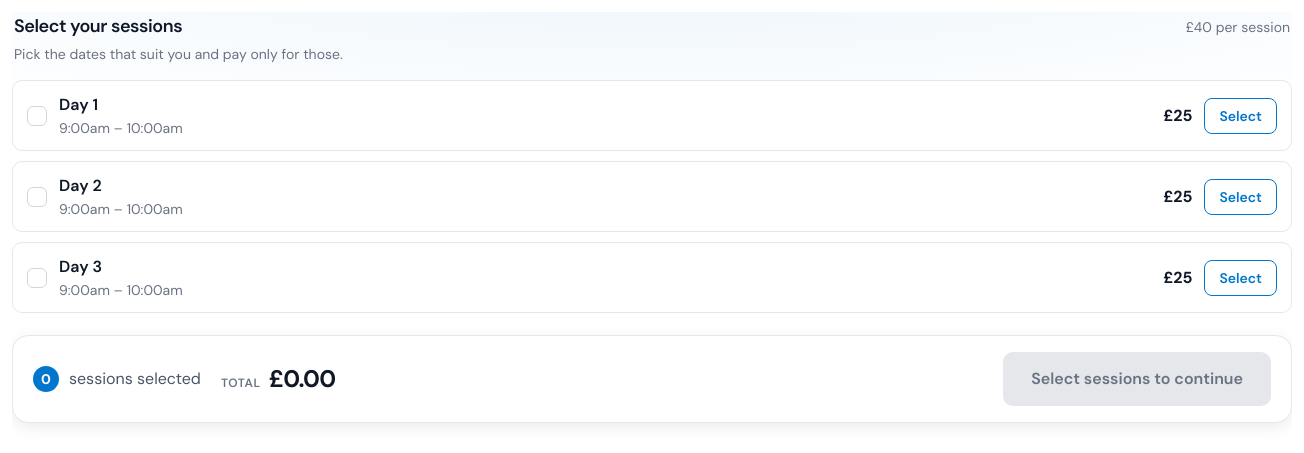
Test: SessionPicker — CTA navigation › UX-21: summary bar itemises subtotal, service fee and total on both variants
Click the button with test id "session-row" at {"x": 79, "y": 104}, box [12, 80, 1292, 151]
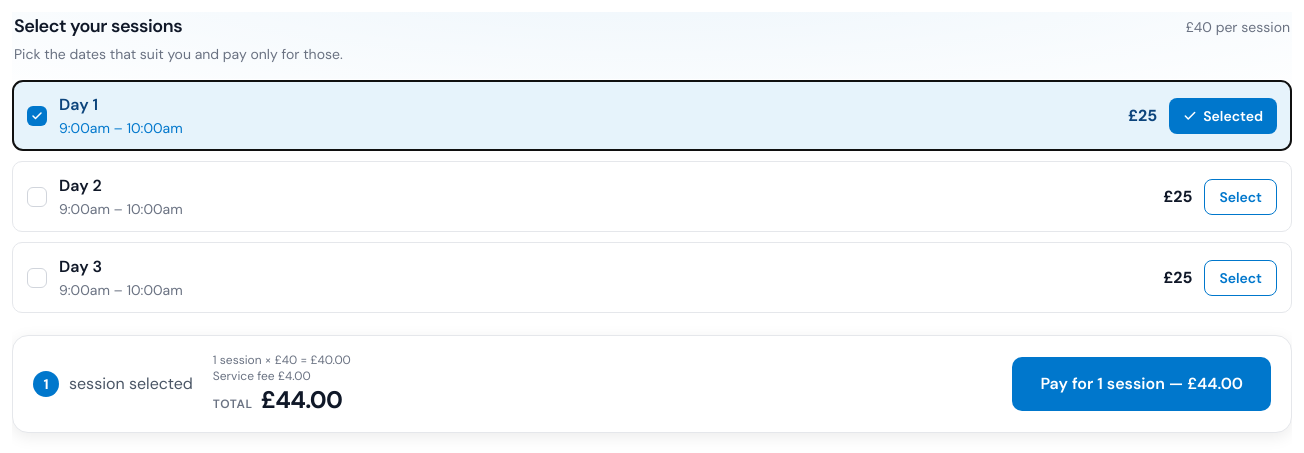
Click the button with test id "session-row" at {"x": 80, "y": 186}, box [12, 161, 1292, 232]
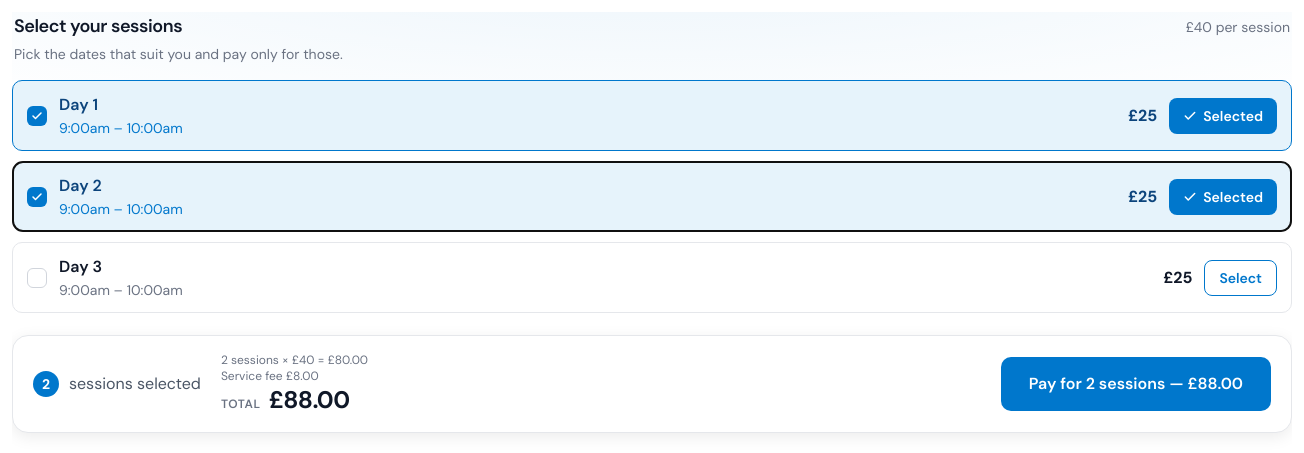
Expected: the text with test id "subtotal-line-desktop" reads "2 sessions × £40 = £80.00", [221, 352, 368, 368]
Expected: the text with test id "fee-line-desktop" reads "Service fee £8.00", [221, 368, 319, 384]
